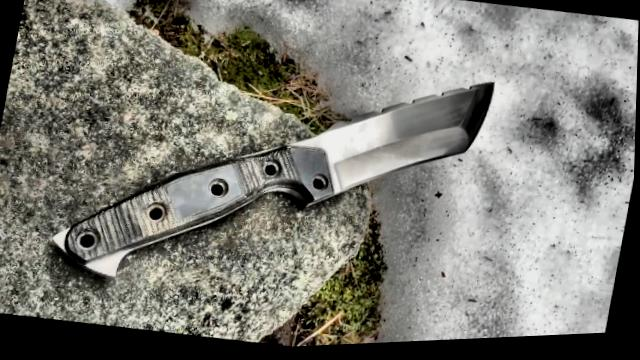knife: (252, 42, 508, 246)
